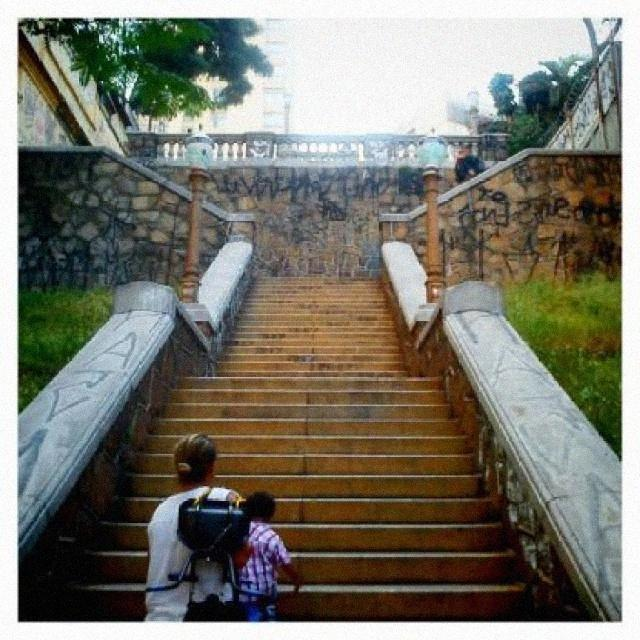stair: (61, 366, 548, 612)
